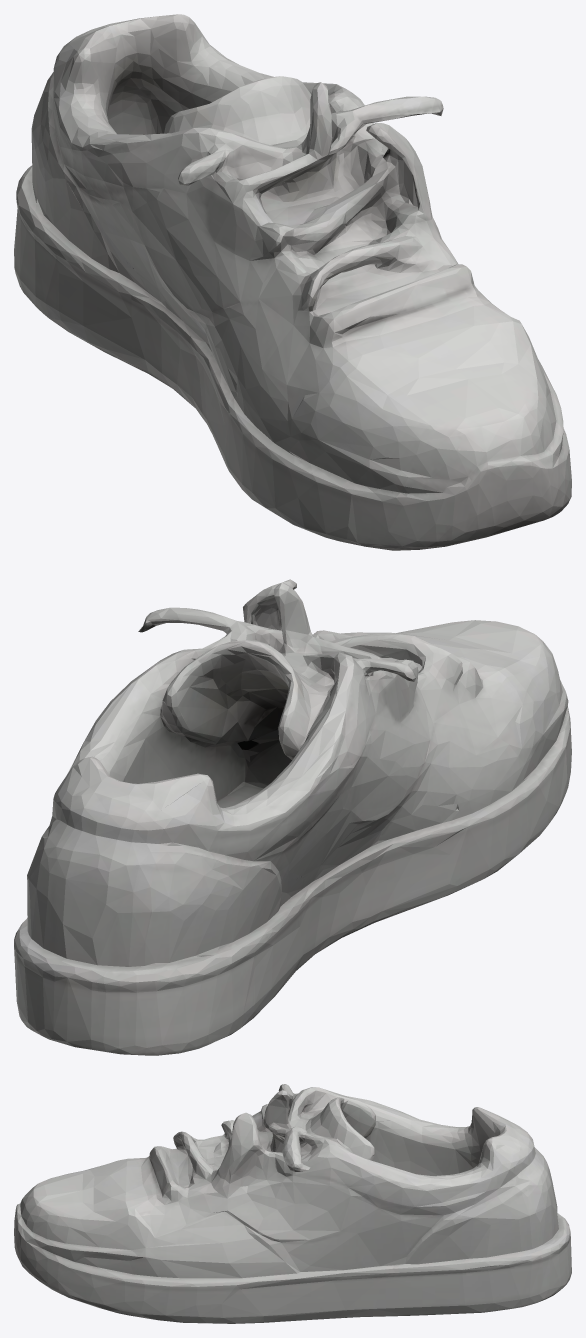
3 renders of one model, top to bottom at view 1: azimuth 30°, elevation 25°; view 2: azimuth 150°, elevation 25°; view 3: azimuth 270°, elevation 25°, orthographic. The views are drawn at different scales.
Visible parts, largest first — view 1: geometry_0; view 2: geometry_0; view 3: geometry_0.
Part boxes in pixels (left/top/right/bottom): geometry_0: left=14, top=14, right=571, bottom=550; geometry_0: left=14, top=579, right=571, bottom=1055; geometry_0: left=14, top=1084, right=571, bottom=1323.
Bounding box in the file's own units: 0.3587 × 0.3946 × 0.9983.
1 material, 1 textured.
